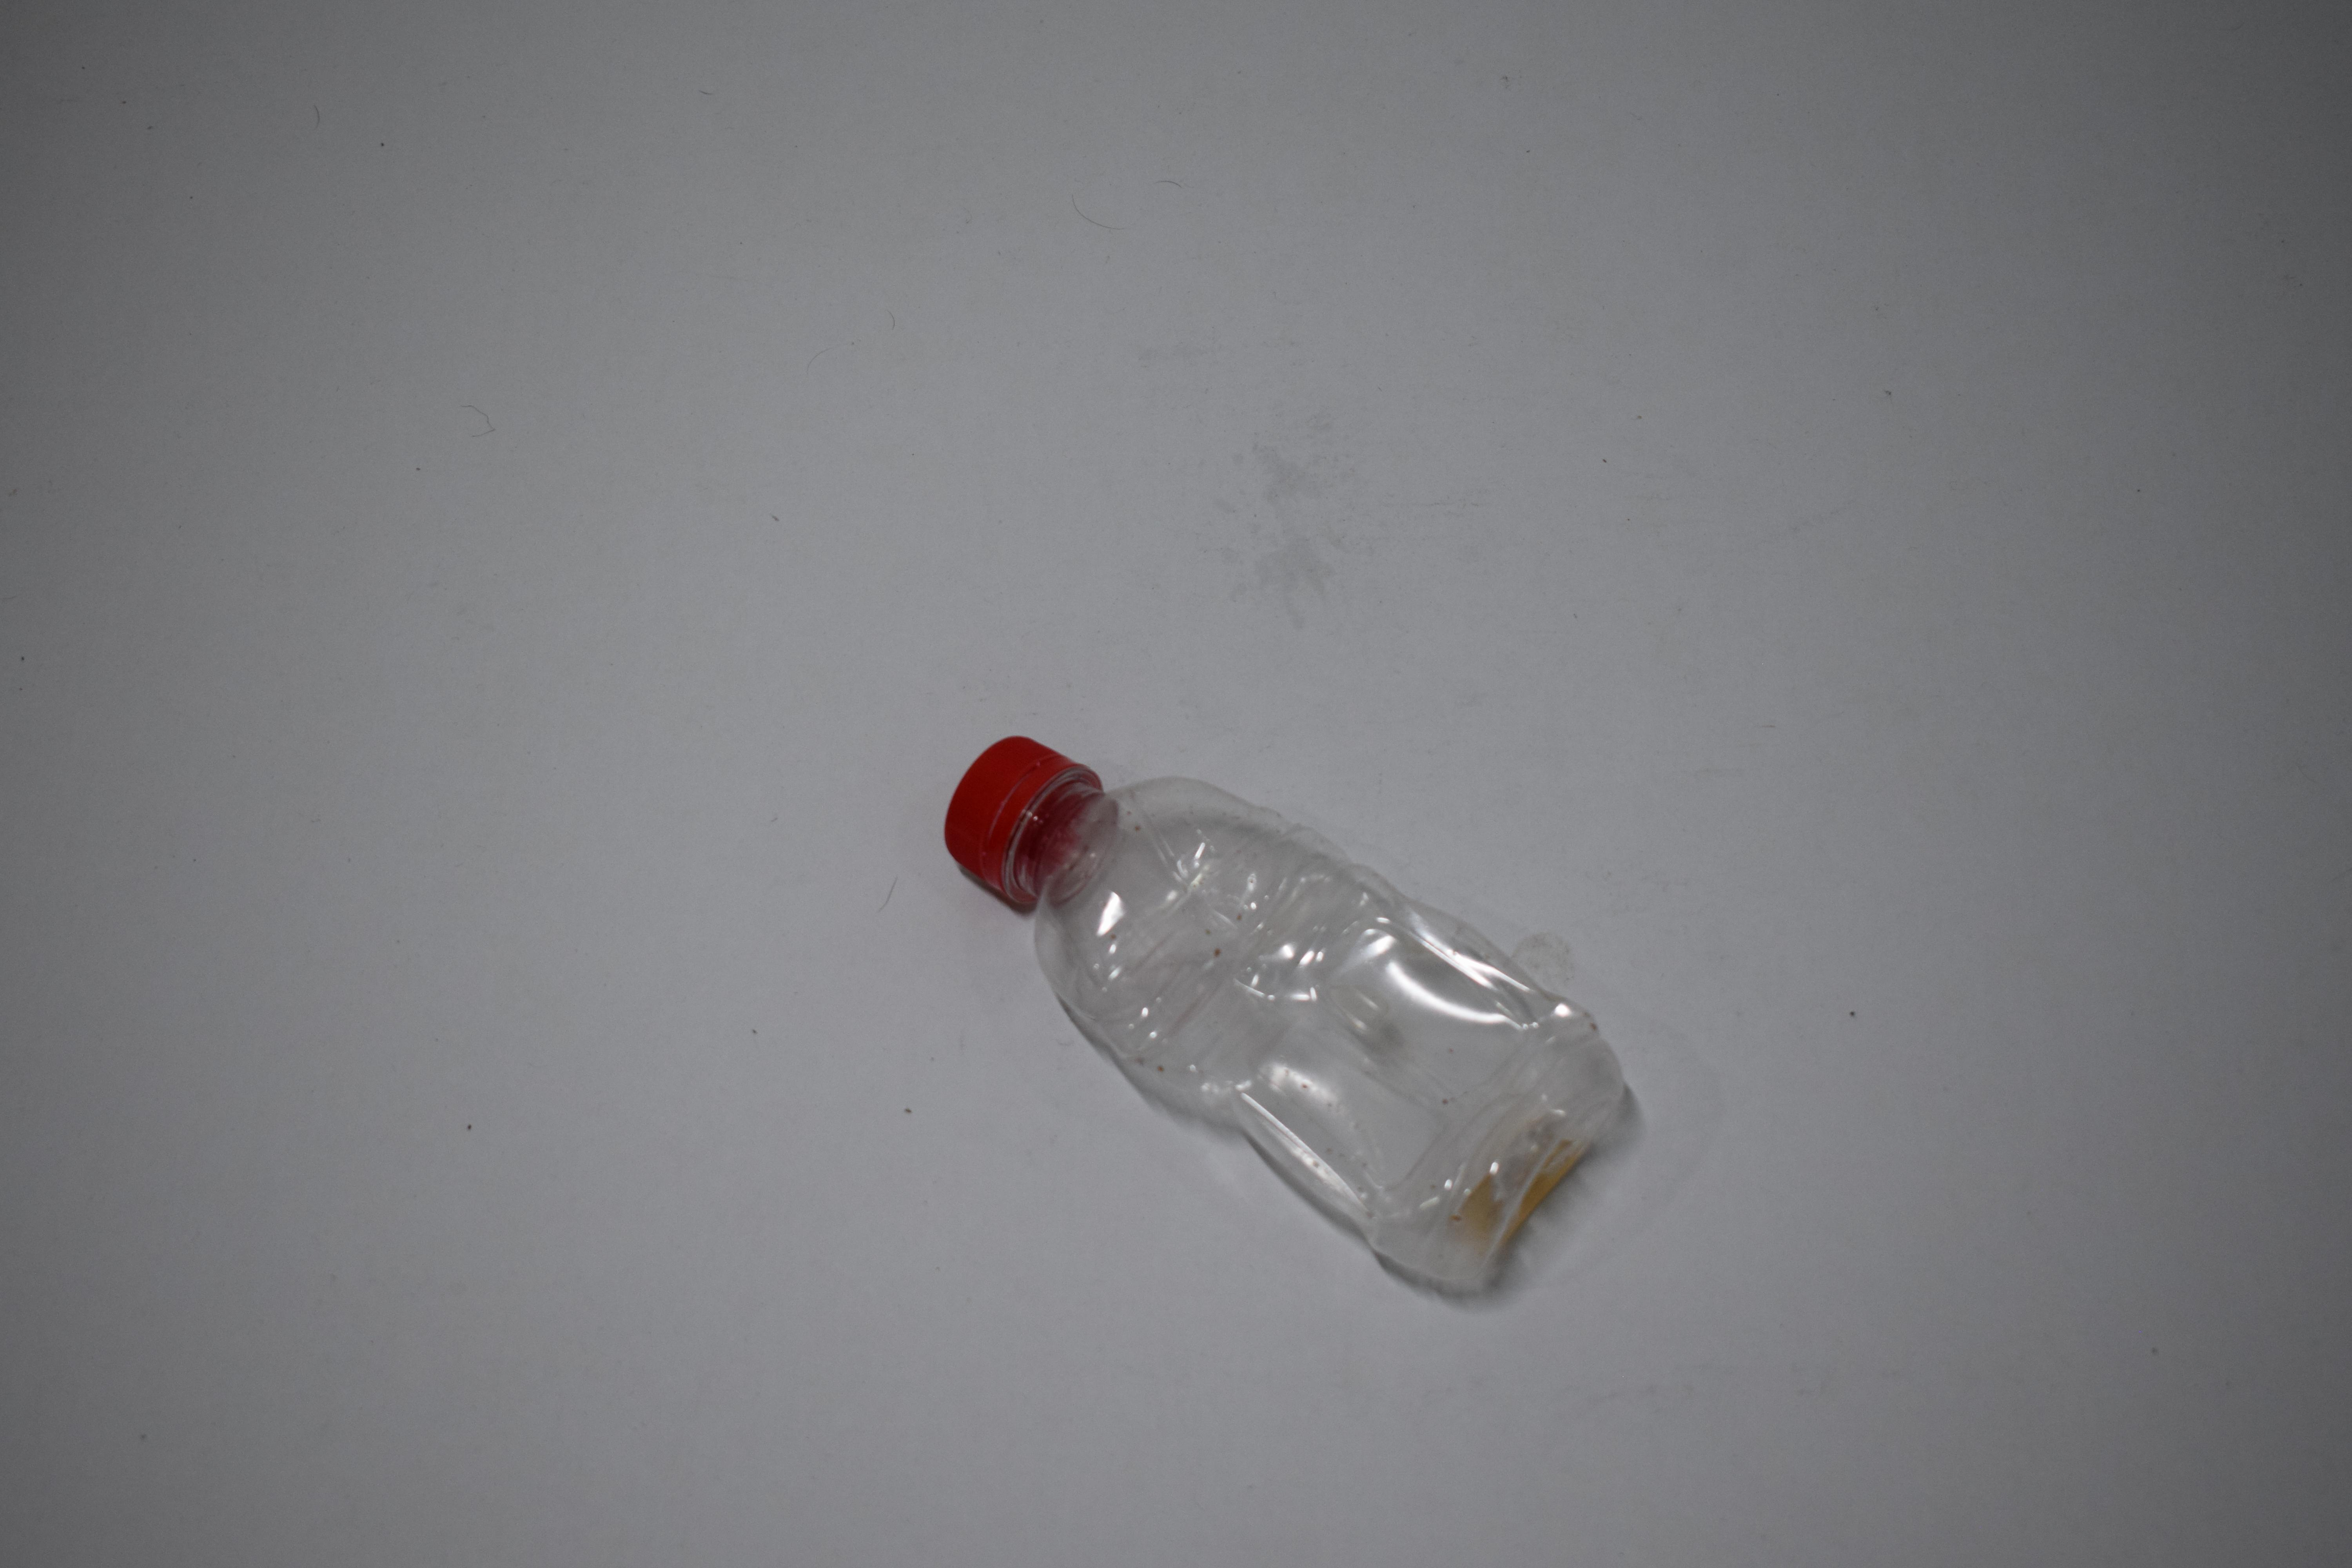bottle: (0, 726, 458, 1309)
